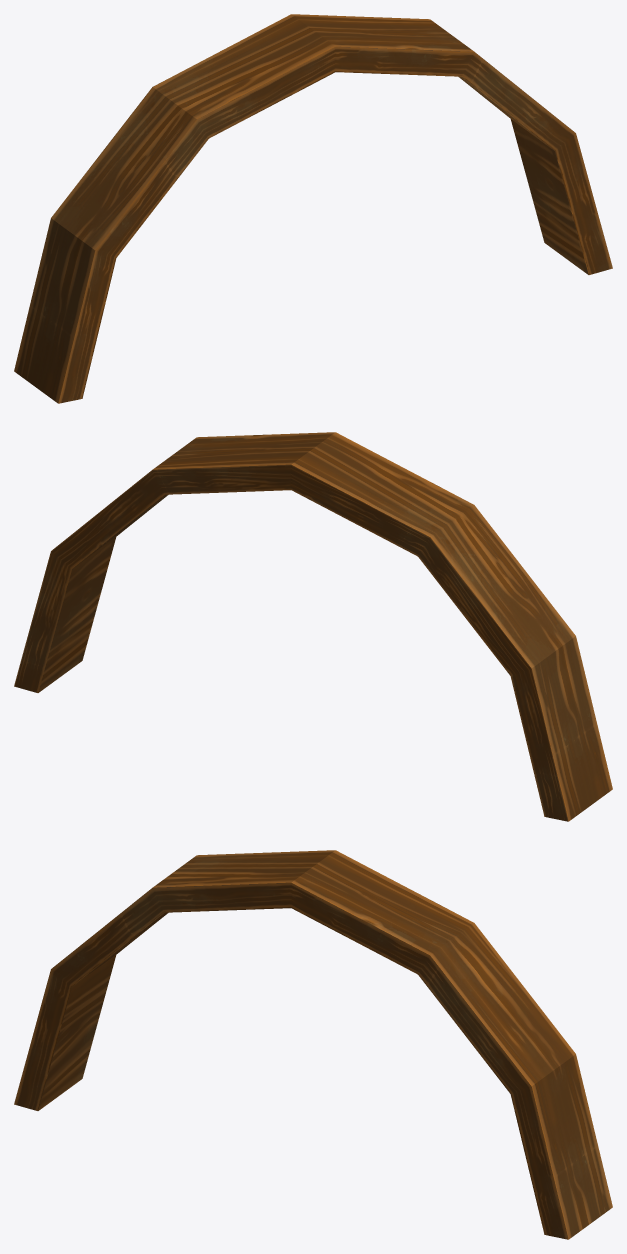
3 views of the same model, one above another, from view 1: azimuth 30°, elevation 25°; view 2: azimuth 150°, elevation 25°; view 3: azimuth 330°, elevation 25° (orthographic).
Parts seen in each view (by area): view 1: Cylinder.043; view 2: Cylinder.043; view 3: Cylinder.043.
Boxes of the visible parts, x1=… form: Cylinder.043: x1=14, y1=14, x2=612, y2=403; Cylinder.043: x1=14, y1=432, x2=612, y2=821; Cylinder.043: x1=14, y1=850, x2=612, y2=1239.
Bounding box in the file's own units: 520 × 260 × 71.95.
1 material, 1 textured.
